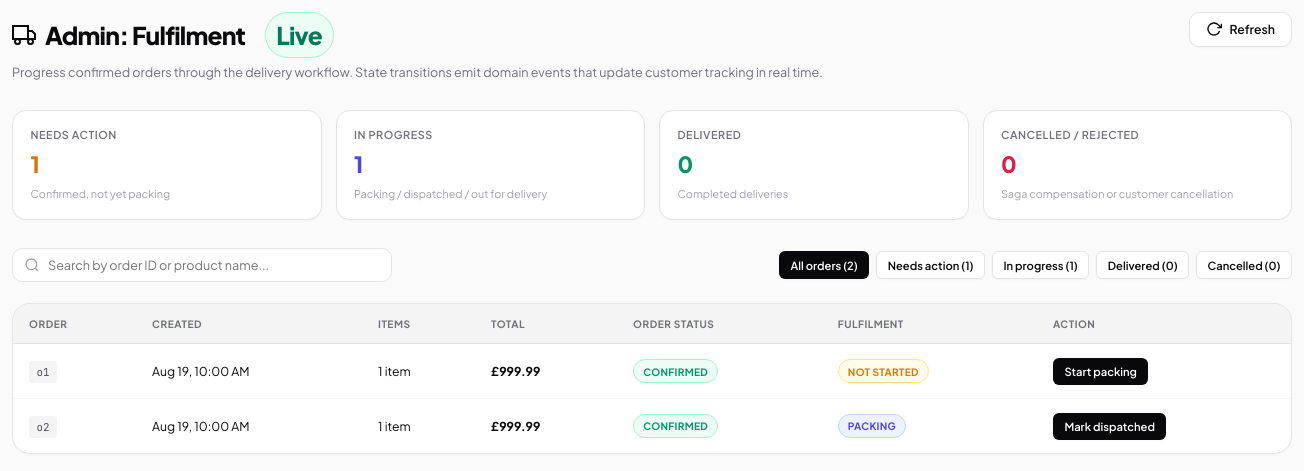
Test: AdminFulfilmentPage › filters orders by 'Needs action'
The image size is (1304, 471).
Expected: the text "o1" is shown, 29,361 -> 57,383
Click the button "Needs action (1)" at (931, 265), box 876,251 -> 985,279
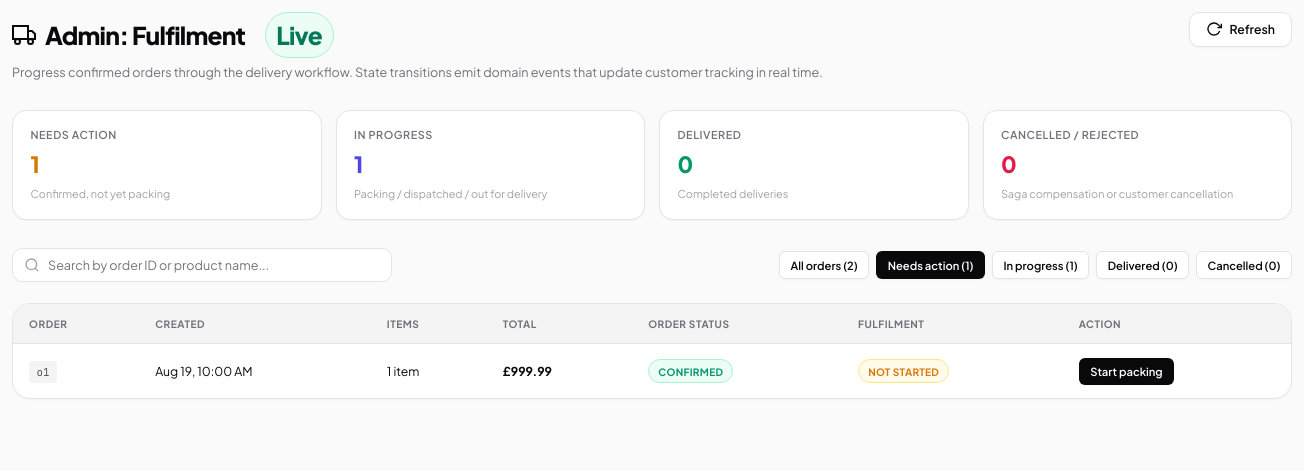
Expected: the text "o1" is shown, 29,361 -> 57,383
Expected: the text "o2" is gone
